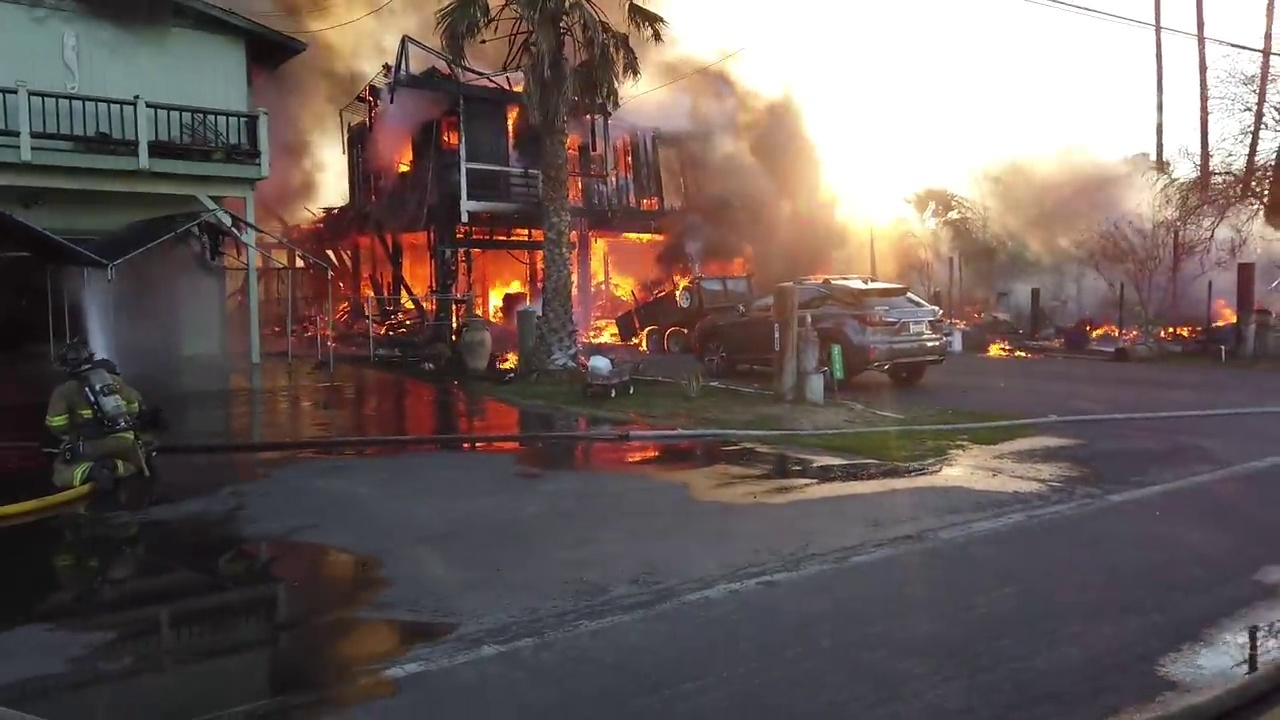fire: (316, 220, 748, 364), (591, 231, 650, 300), (609, 134, 659, 213), (560, 130, 594, 203), (480, 267, 526, 318), (387, 132, 417, 181), (1155, 320, 1204, 345), (497, 97, 522, 143), (982, 339, 1032, 356), (1086, 322, 1137, 337), (669, 269, 690, 304), (1213, 300, 1237, 324)
smoke: (882, 135, 1208, 319), (648, 7, 869, 267), (248, 1, 424, 214), (429, 1, 646, 84)
